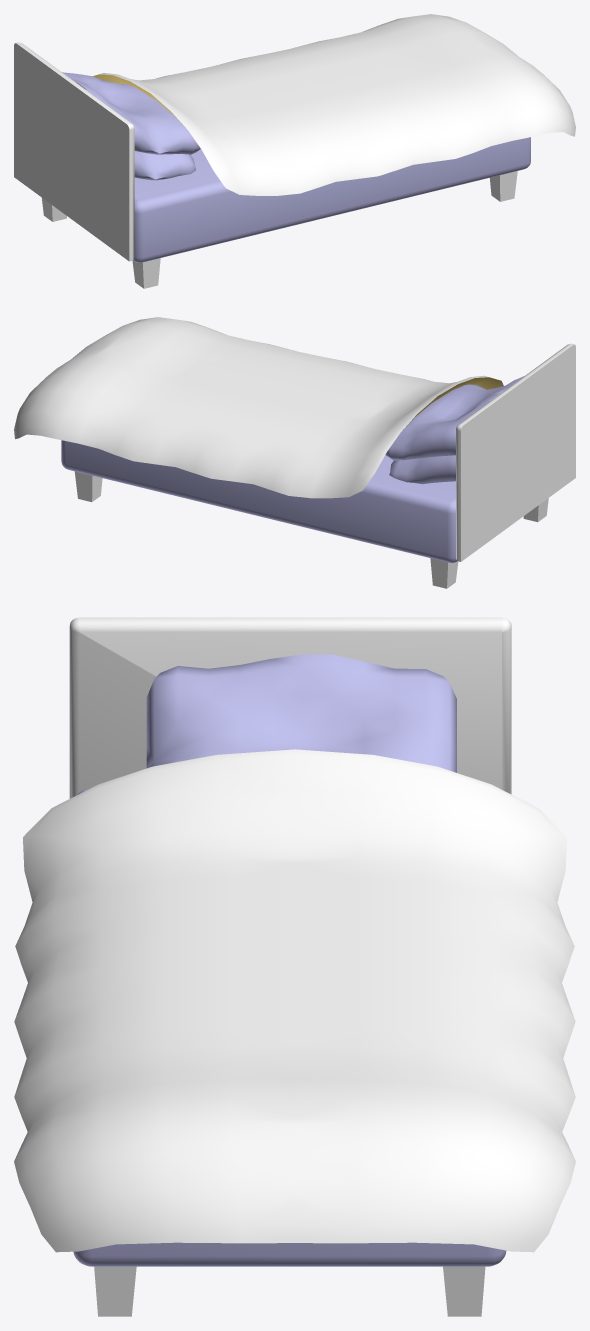
The model's file is bed4.fbx.
3 renders of one model, top to bottom at view 1: azimuth 30°, elevation 25°; view 2: azimuth 150°, elevation 25°; view 3: azimuth 270°, elevation 25°, orthographic. The views are drawn at different scales.
Visible parts, largest first — view 1: bed.dxf_001; view 2: bed.dxf_001; view 3: bed.dxf_001.
Boxes of the visible parts, x1=… form: bed.dxf_001: x1=14, y1=14, x2=575, y2=288; bed.dxf_001: x1=14, y1=317, x2=575, y2=588; bed.dxf_001: x1=14, y1=617, x2=575, y2=1316.
Size of the model in its own units: 86.15 by 30.83 by 47.26.
